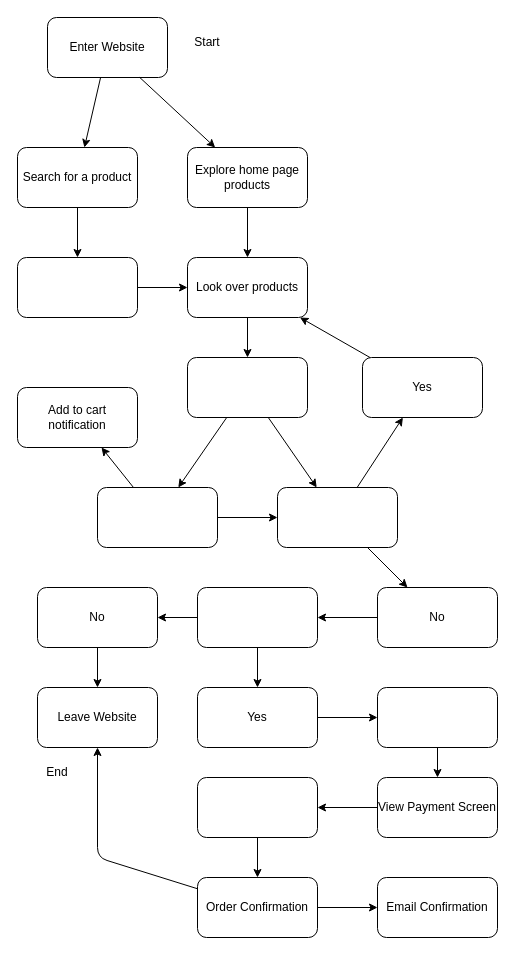
The diagram is 515 pixels wide and 955 high, and some of its shapes have lost their labels. The box of each missing label's shape, as (x1, y1, x2, y2) in pixels:
Add to cart: (96, 486, 218, 548)
Continue Shopping?: (276, 486, 398, 548)
Input Payment Info: (196, 776, 318, 838)
Provide Input for Search Term: (16, 256, 138, 318)
View Cart Screen: (376, 686, 498, 748)
View specific product: (186, 356, 308, 418)
Want to Checkout?: (196, 586, 318, 648)
